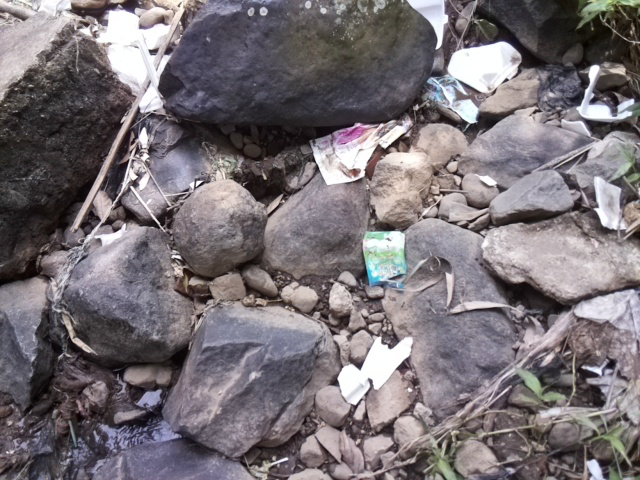Sampah_Plastik: (303, 121, 407, 186), (361, 230, 408, 289)
Sampah_Styrofoam: (96, 10, 170, 106), (334, 335, 418, 404), (448, 38, 523, 90), (576, 64, 631, 123)
